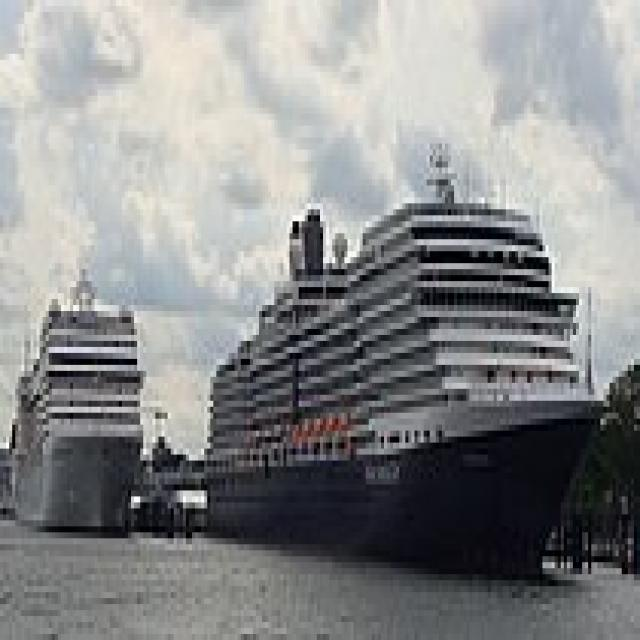Cruise: (198, 126, 610, 580), (3, 257, 146, 538)
